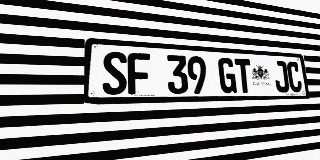3: (166, 55, 188, 94)
9: (187, 56, 208, 94)
C: (286, 61, 302, 92)
F: (127, 52, 151, 95)
G: (217, 57, 237, 93)
J: (273, 61, 290, 92)
S: (102, 51, 127, 95)
T: (234, 58, 253, 93)
